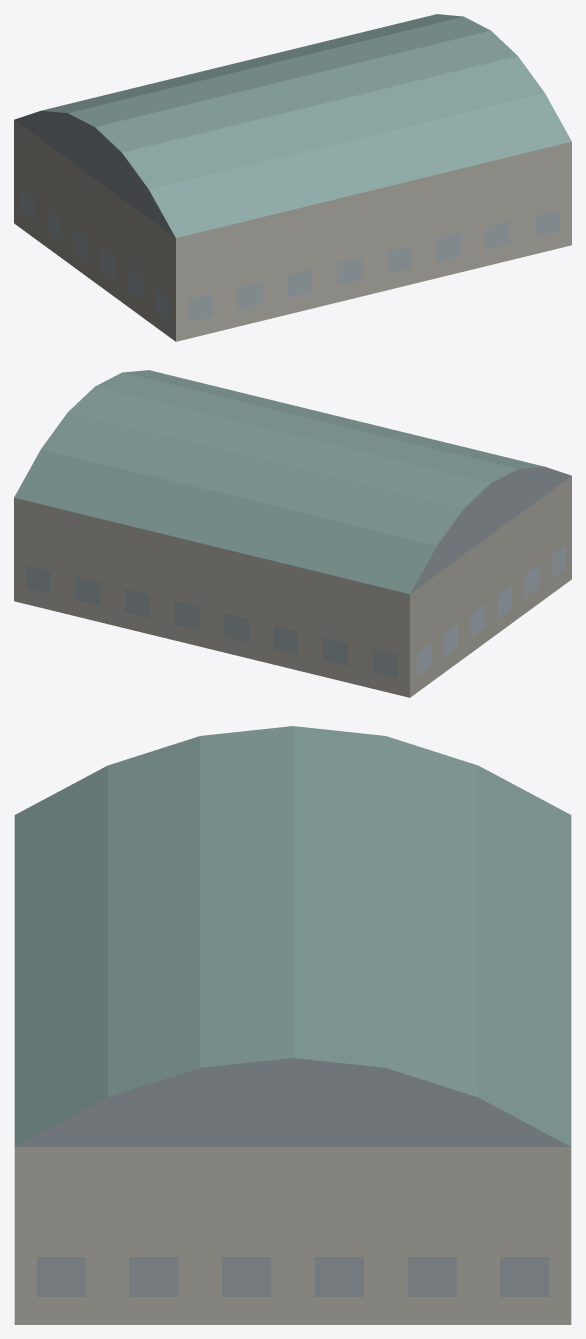
File: 14_public_services-08.glb
3 views of the same model, one above another, from view 1: azimuth 30°, elevation 25°; view 2: azimuth 150°, elevation 25°; view 3: azimuth 270°, elevation 25° (orthographic). The views are drawn at different scales.
Size of the model in its own units: 24.05 by 9 by 17.05.
